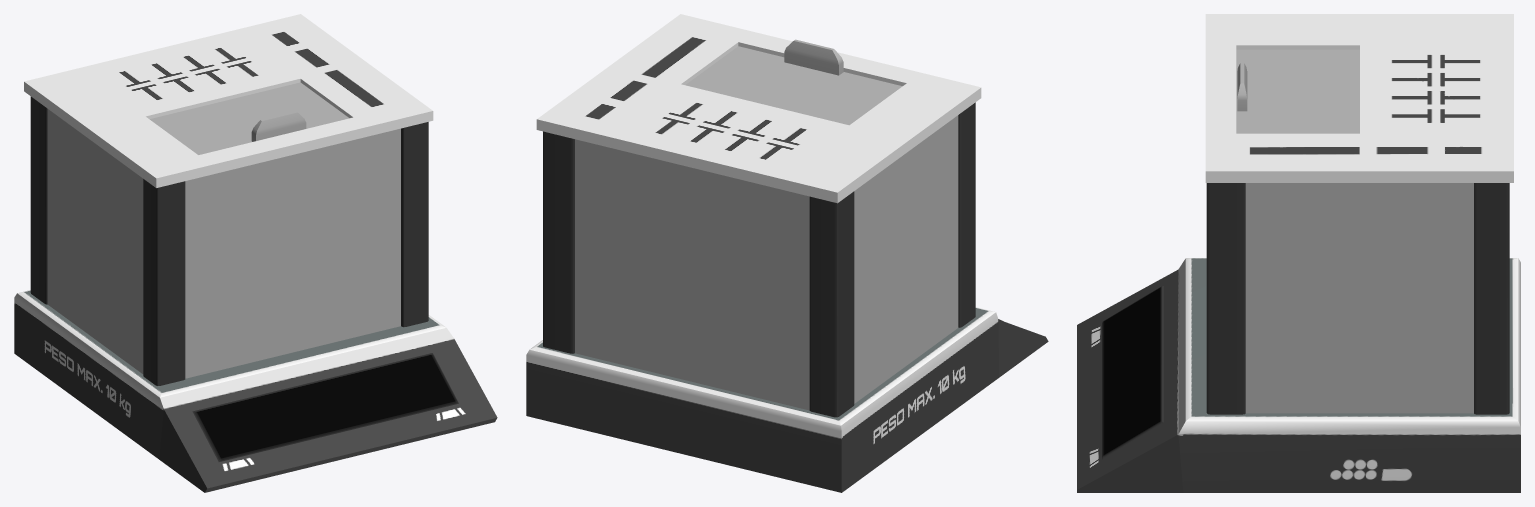
Rendered from Gramera.fbx.
3 renders of one model, left to right at view 1: azimuth 30°, elevation 25°; view 2: azimuth 150°, elevation 25°; view 3: azimuth 270°, elevation 25°, orthographic. The views are drawn at different scales.
Visible parts, largest first — view 1: gramera_metal, gramera_cristal; view 2: gramera_metal, gramera_cristal; view 3: gramera_metal, gramera_cristal.
Boxes of the visible parts, bbox=[...] form: gramera_metal: bbox=[14, 14, 497, 492]; gramera_cristal: bbox=[47, 82, 400, 378]; gramera_metal: bbox=[526, 14, 1048, 492]; gramera_cristal: bbox=[575, 39, 958, 410]; gramera_metal: bbox=[1077, 14, 1520, 492]; gramera_cristal: bbox=[1236, 49, 1473, 413].
Size of the model in its own units: 26.09 by 24.65 by 29.38.
2 materials, 2 textured.
